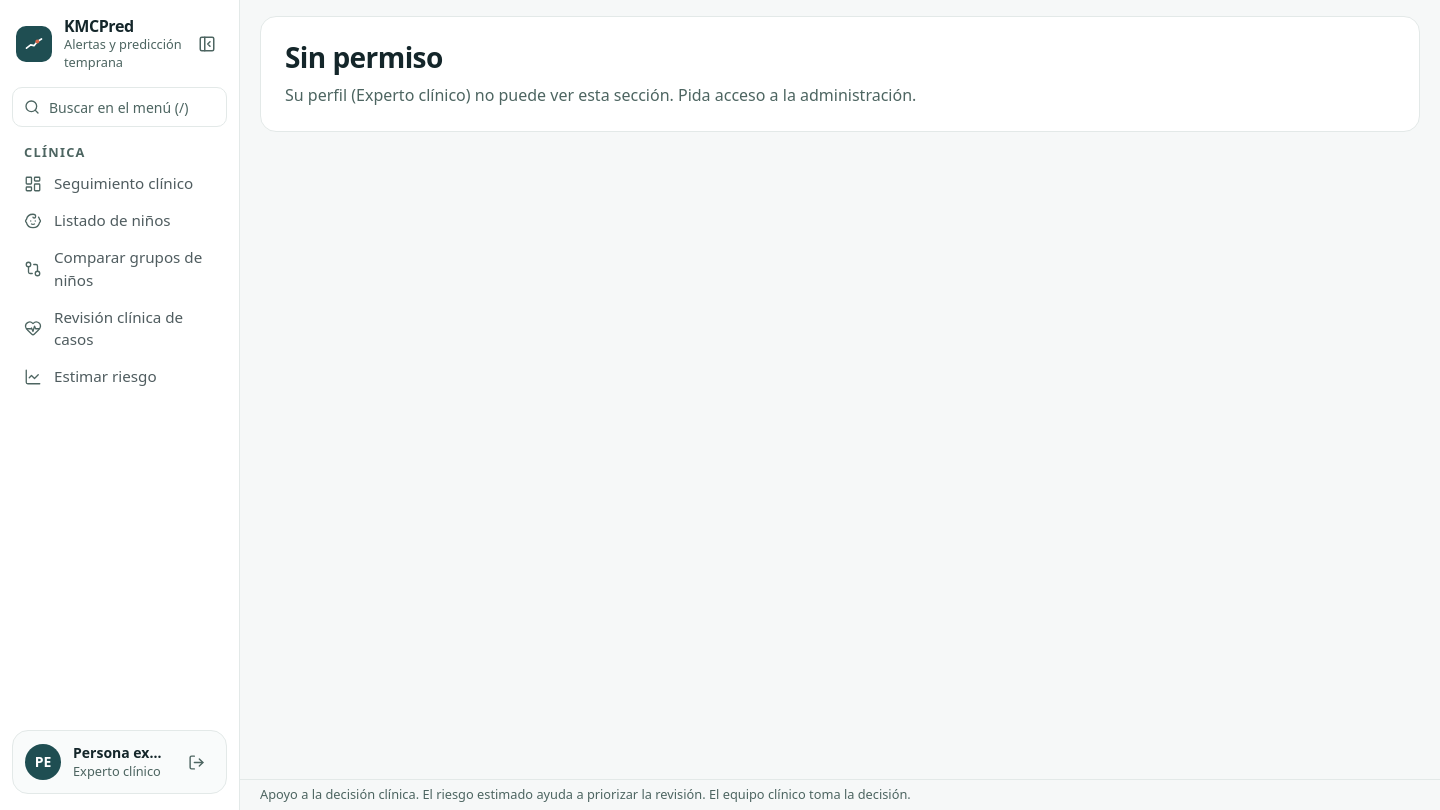
Test: Buscar en el menú › filtra el propio menú, sin tildes, y oculta lo que no coincide
Expected: the link "Seguimiento clínico" is shown, [24, 173, 193, 193]
Type "estimar" into the search field with placeholder "Buscar en el menú (/)" at [120, 107], box [12, 87, 227, 127]
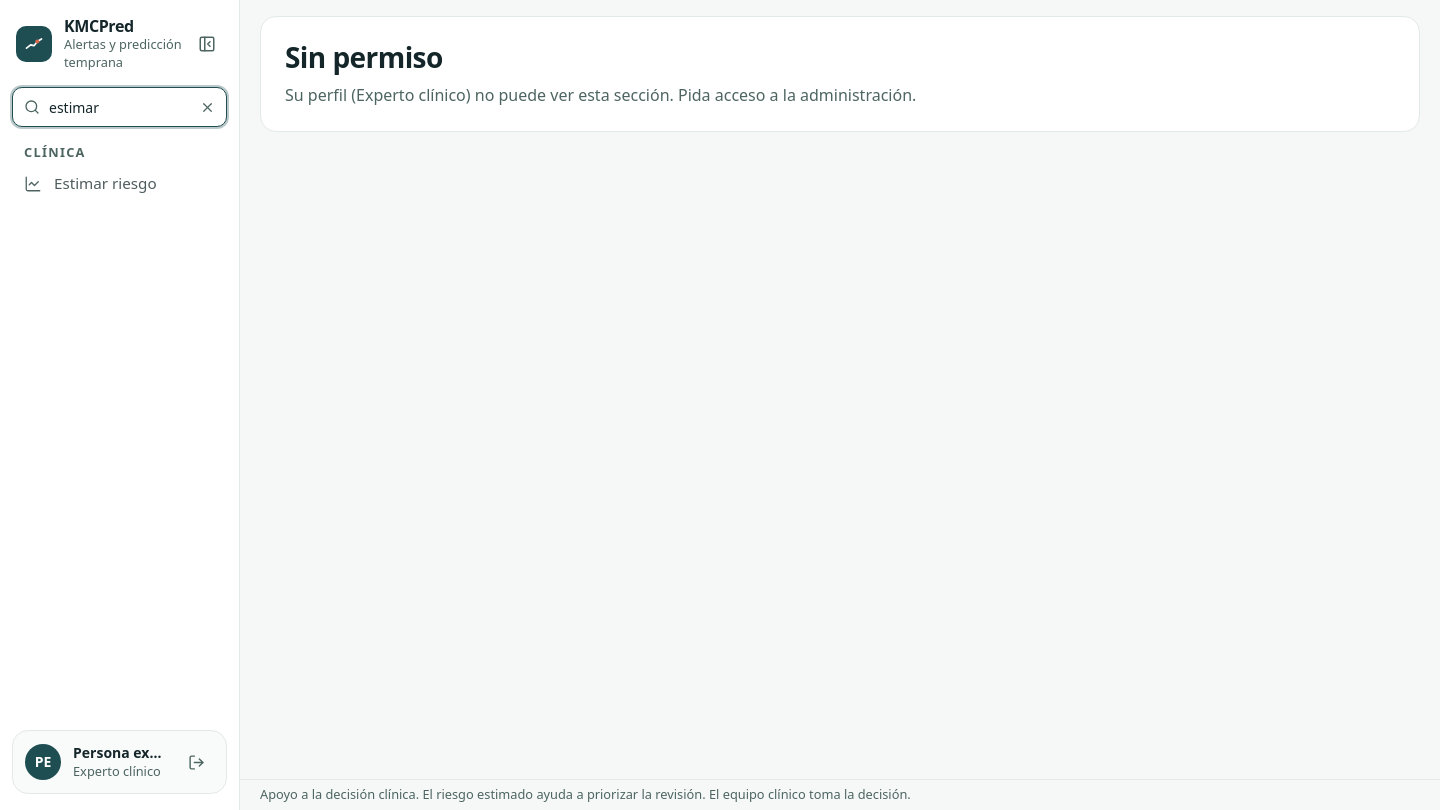
Expected: the link "Estimar riesgo" is shown, [24, 173, 157, 193]
Result: no links "Seguimiento clínico" are shown
